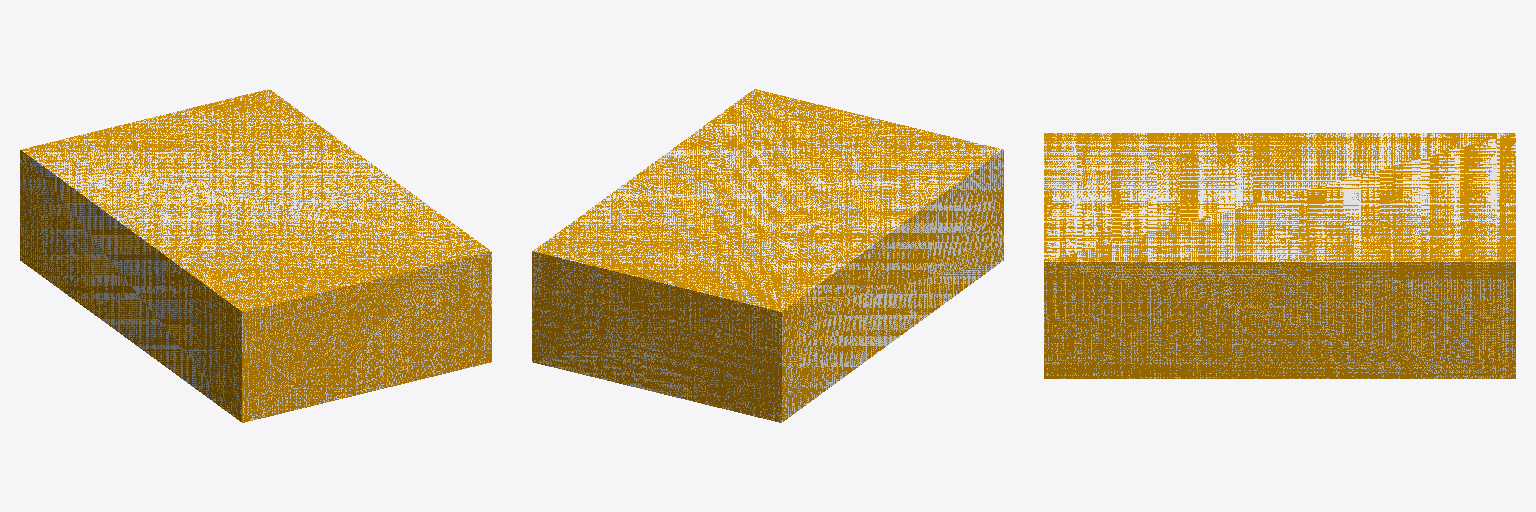
The robot description file, URDF, robot "my_object":
<?xml version="1.0" ?>
<robot name="my_object" static="true">
  <link name="base_link">
  <inertial>
    <mass value="0.443" />
    <origin xyz="0 0 0.0" />
    <inertia ixx="1.0" ixy="0.0" ixz="0.0" iyy="1.0" iyz="0.0" izz="1.0"/>
  </inertial>
  <visual>
   <origin xyz="0 0 0.0" rpy="0 0 0" />
   <geometry>
     <mesh filename="package://cob_gazebo_objects/Media/models/blanket_white.dae"/>
   </geometry>
  </visual>
  <collision>
   <origin xyz="0 0 0" rpy="0 0 0" />
   <geometry>
     <box size="0.21 0.325 0.09" />
   </geometry>
  </collision>
  </link>

<gazebo>
	<static>true</static>
</gazebo>

</robot>

--- Facts derived from the render (not from the file) ---
Views: 3 orthographic renders of the robot side by side, from view 1: azimuth 30°, elevation 25°; view 2: azimuth 150°, elevation 25°; view 3: azimuth 270°, elevation 25°.
Model my_object with 1 links and 0 joints (none), rooted at base_link, posed every joint at zero.
Links seen in each view (by area): view 1: base_link; view 2: base_link; view 3: base_link.
Boxes of the visible links, left/top/right/bottom form: base_link: left=20, top=89, right=491, bottom=422; base_link: left=532, top=89, right=1003, bottom=422; base_link: left=1044, top=133, right=1515, bottom=378.
Bounding box of the posed robot: 0.2103 × 0.3245 × 0.0896 m (x, y, z).
Meshes: 1 distinct files referenced, 1 mesh visuals loaded (1 Collada DAE).